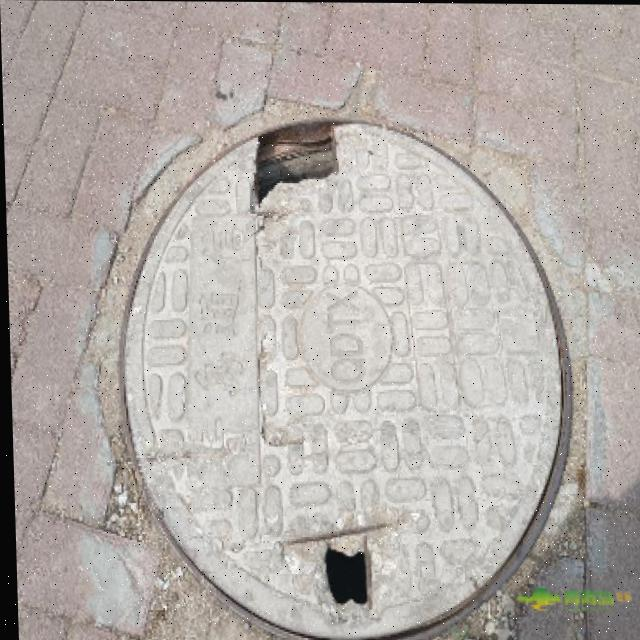manhole: (93, 110, 575, 640)
